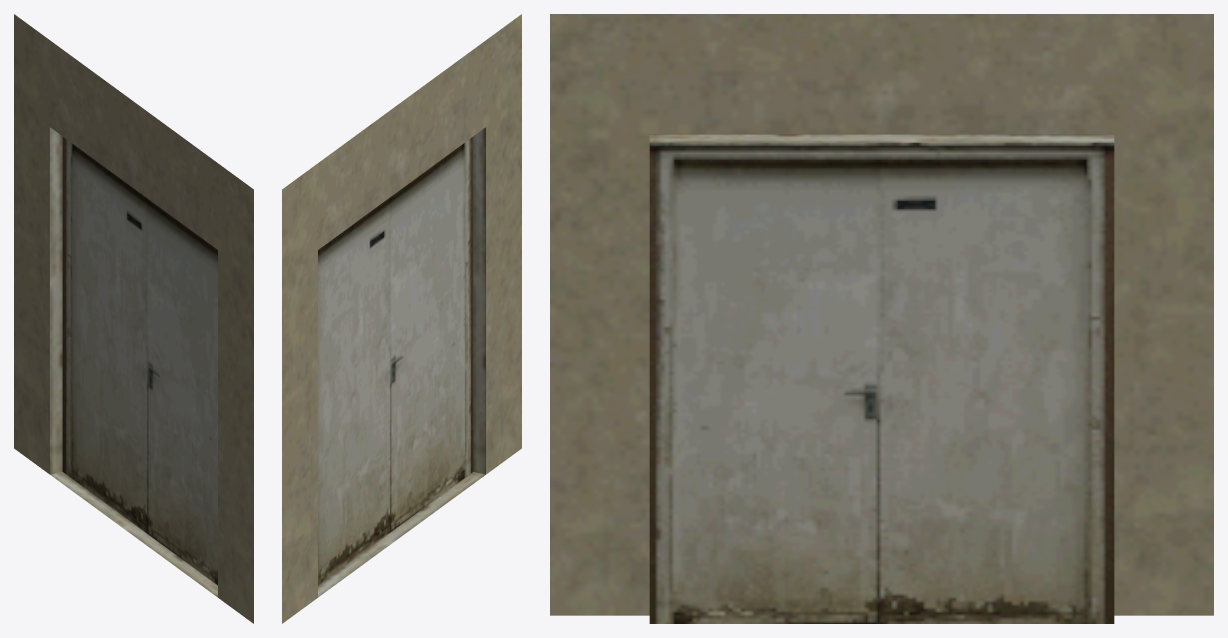
Rendered from Urban_StucoWallOldDoorIndent_Model.fbx.
The picture shows the model from 3 angles, left to right: view 1: azimuth 30°, elevation 25°; view 2: azimuth 150°, elevation 25°; view 3: azimuth 270°, elevation 25°; orthographic projection. The views are drawn at different scales.
Visible parts, largest first — view 1: Urban_StucoWallOldDoorIndent_Mesh; view 2: Urban_StucoWallOldDoorIndent_Mesh; view 3: Urban_StucoWallOldDoorIndent_Mesh.
Boxes of the visible parts, x1,y1,x2,y2 form: Urban_StucoWallOldDoorIndent_Mesh: (14,14,253,623); Urban_StucoWallOldDoorIndent_Mesh: (282,14,521,623); Urban_StucoWallOldDoorIndent_Mesh: (550,14,1213,623).
Size of the model in its own units: 0.0635 by 2.1 by 2.1.
